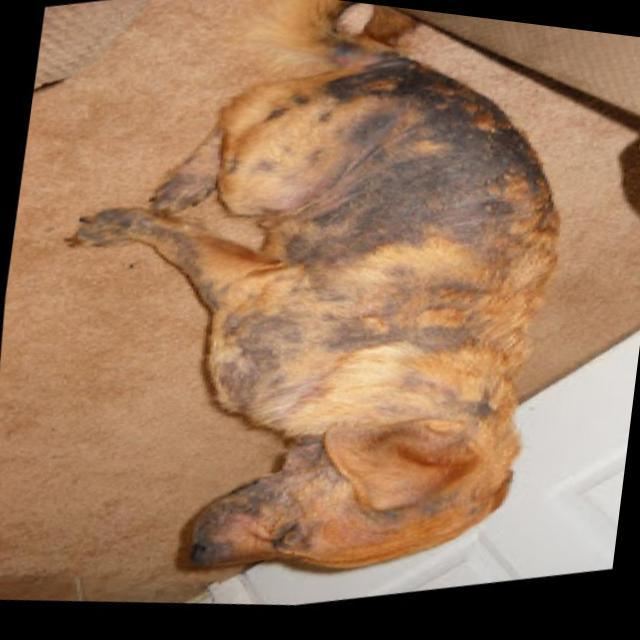allergic dermatitis: (296, 115, 536, 261), (226, 296, 468, 409), (332, 62, 452, 140)
